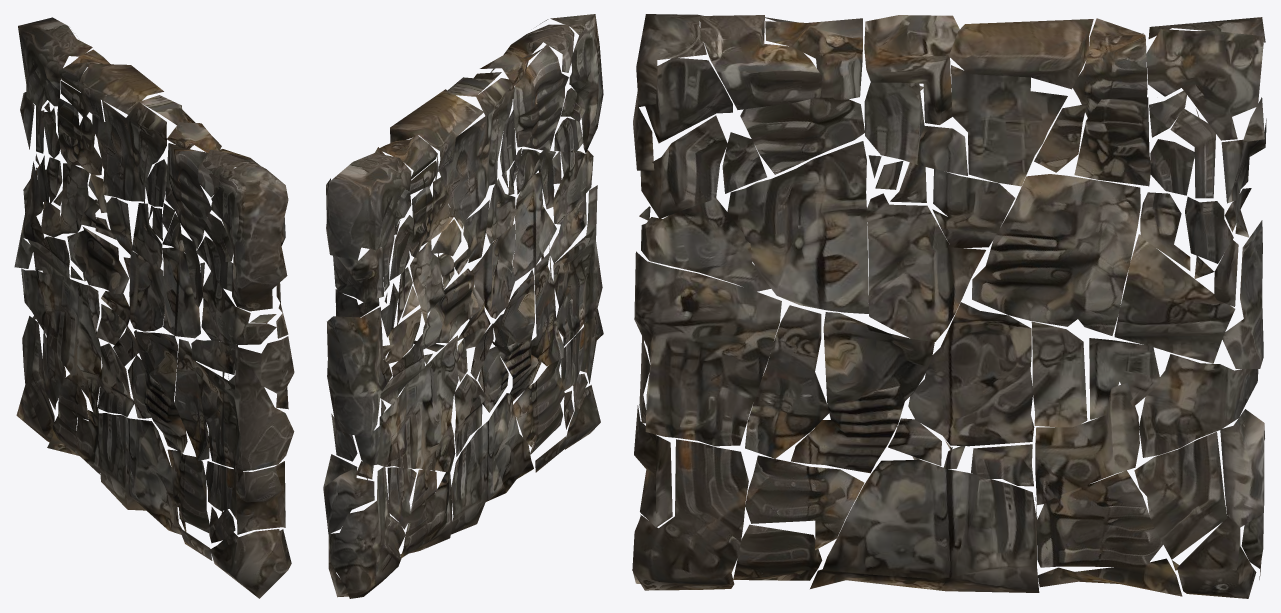
The model's file is arch_floor_stone_LOD3.glb.
3 views of the same model, side by side, from view 1: azimuth 30°, elevation 25°; view 2: azimuth 150°, elevation 25°; view 3: azimuth 270°, elevation 25° (orthographic). The views are drawn at different scales.
Parts seen in each view (by area): view 1: tripo_node_d47b0ee3-ac23-4a6f-a88d-3b07333e5048; view 2: tripo_node_d47b0ee3-ac23-4a6f-a88d-3b07333e5048; view 3: tripo_node_d47b0ee3-ac23-4a6f-a88d-3b07333e5048.
Boxes of the visible parts, left/top/right/bottom form: tripo_node_d47b0ee3-ac23-4a6f-a88d-3b07333e5048: left=14, top=17, right=294, bottom=598; tripo_node_d47b0ee3-ac23-4a6f-a88d-3b07333e5048: left=323, top=14, right=603, bottom=598; tripo_node_d47b0ee3-ac23-4a6f-a88d-3b07333e5048: left=632, top=14, right=1266, bottom=598.
Bounding box in the file's own units: 0.176 × 0.9955 × 1.
1 material, 1 textured.
